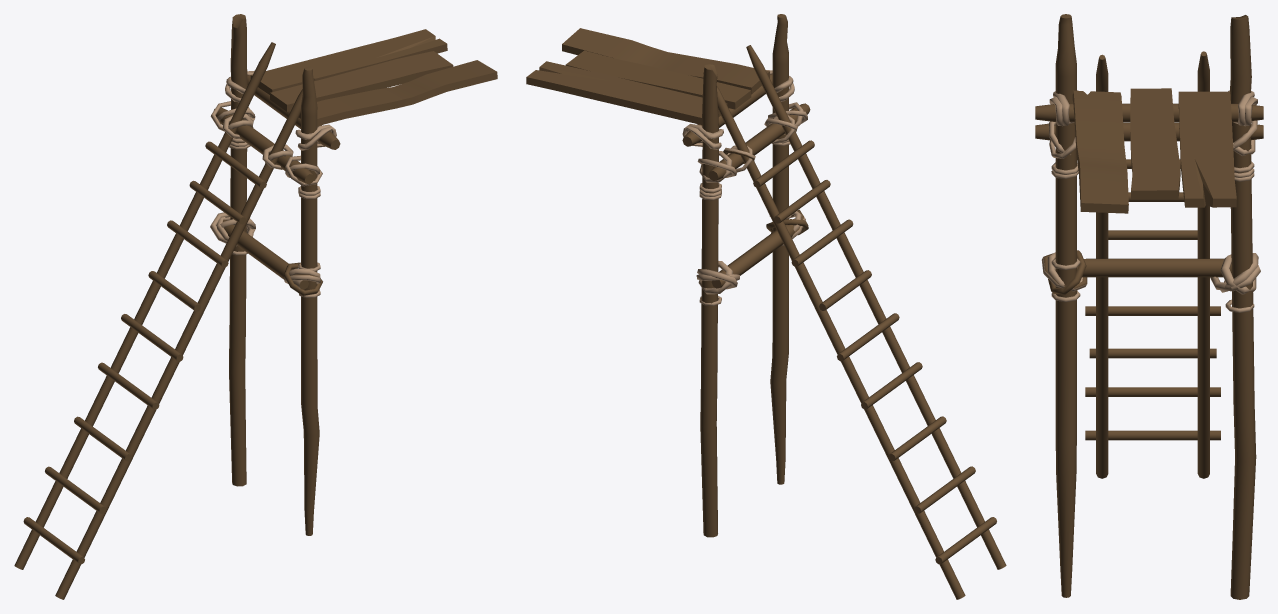
Rendered from woodenBridge_deadEndExtended_mesh.fbx.
The picture shows the model from 3 angles, left to right: view 1: azimuth 30°, elevation 25°; view 2: azimuth 150°, elevation 25°; view 3: azimuth 270°, elevation 25°; orthographic projection. The views are drawn at different scales.
Parts seen in each view (by area): view 1: deadEndExtended; view 2: deadEndExtended; view 3: deadEndExtended.
Boxes of the visible parts, <box> form: deadEndExtended: <box>14,14,497,599</box>; deadEndExtended: <box>526,14,1006,599</box>; deadEndExtended: <box>1035,14,1263,599</box>.
Bounding box in the file's own units: 1.19 × 1.28 × 0.4387.
